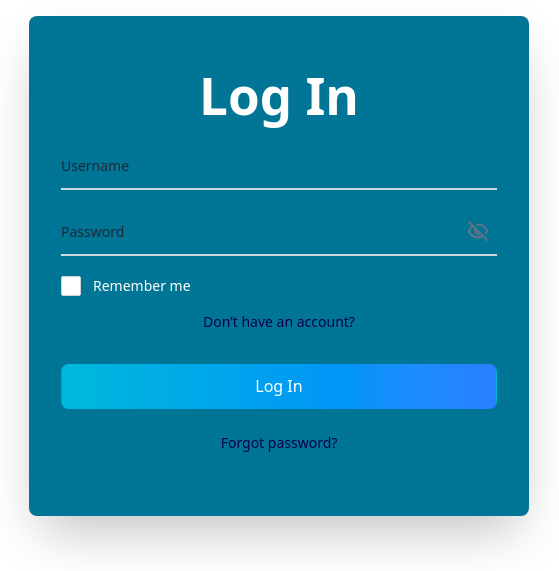
Test: Login Flow › should show an error for invalid credentials
Type "wronguser" into the field named "username" at (279, 167), box 61,144 -> 497,190
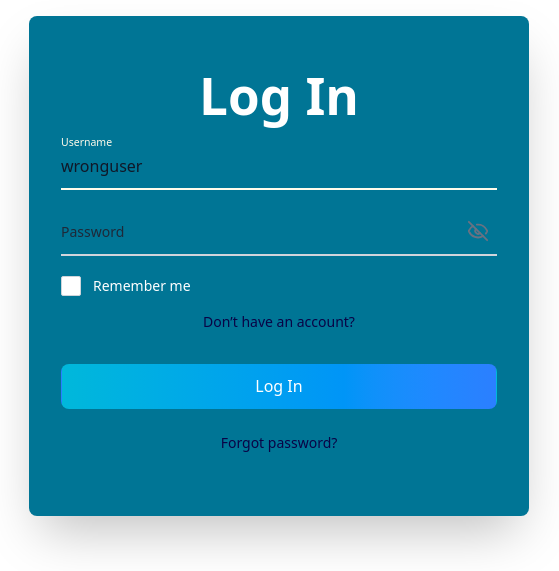
Type "wrongpass" into the password field named "password" at (279, 233), box 61,210 -> 497,256
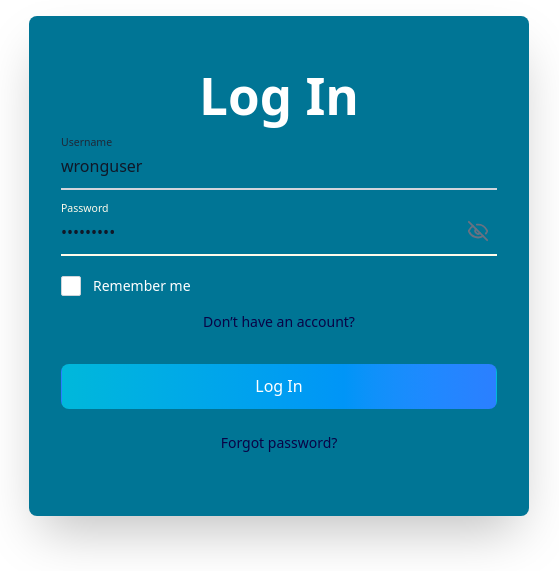
Click the submit button at (279, 387), box 61,364 -> 497,409
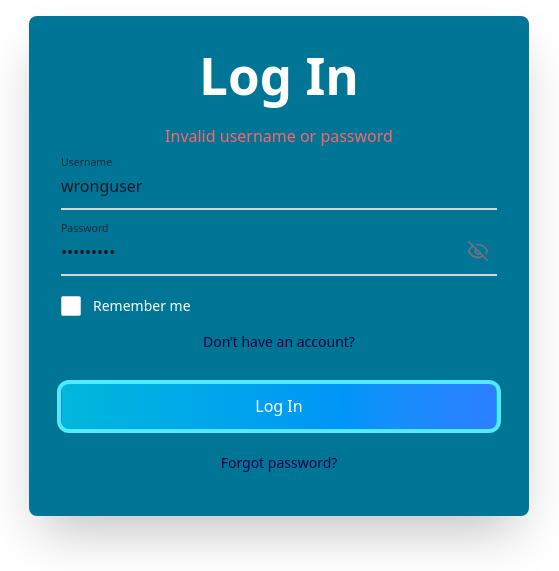
Result: the text "Invalid username or password" is shown at 165,125 -> 393,147
